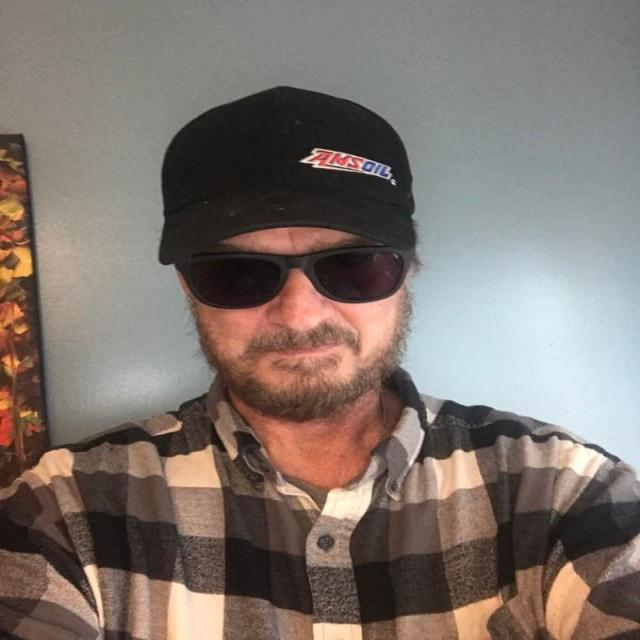2_gafas: (174, 243, 411, 310)
